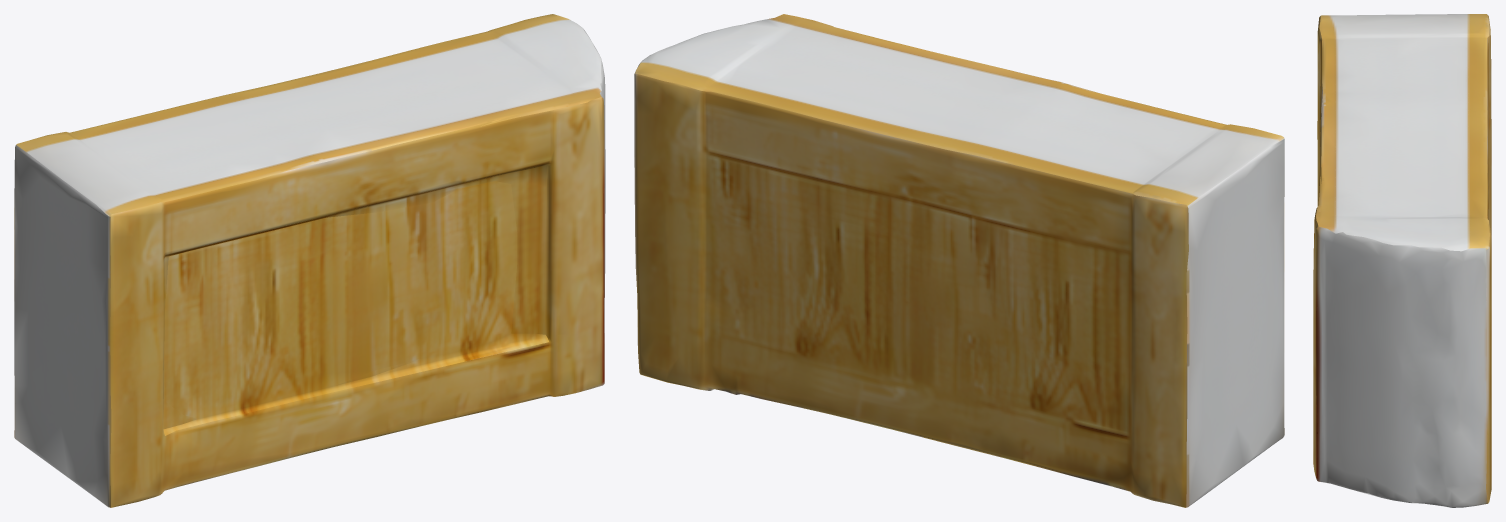
Rendered from PlacardCuisine6_3D_textured.glb.
3 views of the same model, side by side, from view 1: azimuth 30°, elevation 25°; view 2: azimuth 150°, elevation 25°; view 3: azimuth 270°, elevation 25° (orthographic). The views are drawn at different scales.
Parts seen in each view (by area): view 1: temp_mesh.ply; view 2: temp_mesh.ply; view 3: temp_mesh.ply.
Part boxes in pixels (left/top/right/bottom): temp_mesh.ply: left=14, top=14, right=605, bottom=507; temp_mesh.ply: left=634, top=14, right=1284, bottom=507; temp_mesh.ply: left=1313, top=14, right=1491, bottom=507.
Size of the model in its own units: 1.97 by 1.02 by 0.6285.
Materials: 1 (1 with a texture image).
